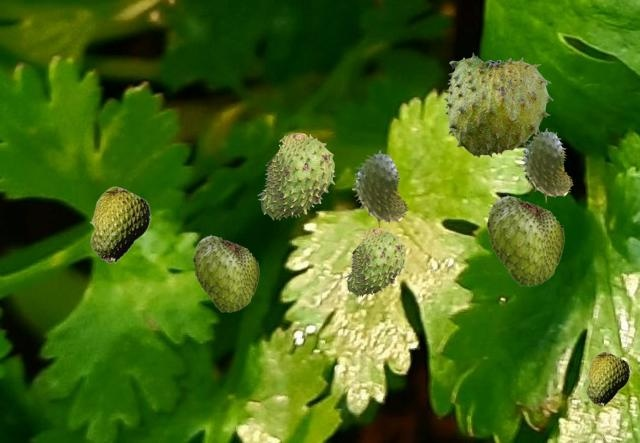guyabano: (443, 52, 552, 156), (487, 194, 563, 285), (257, 133, 334, 219), (193, 234, 258, 311), (89, 186, 150, 263), (352, 150, 407, 227), (344, 228, 405, 296), (520, 128, 572, 201), (585, 351, 629, 406)
